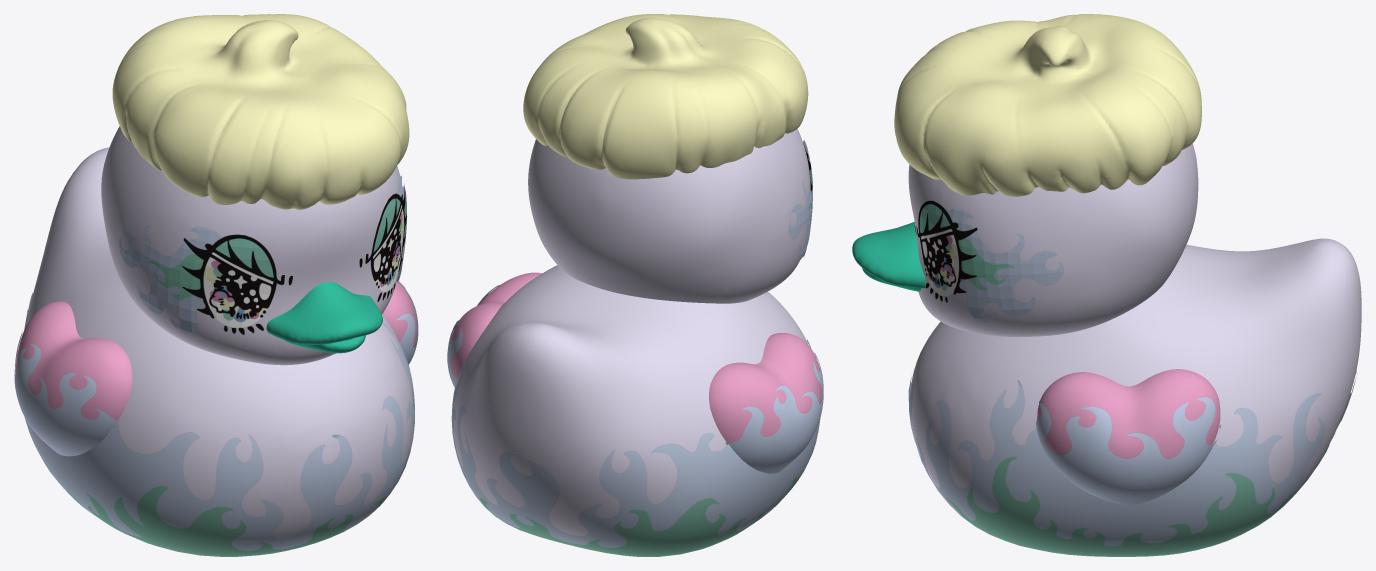
3 views of the same model, side by side, from view 1: azimuth 30°, elevation 25°; view 2: azimuth 150°, elevation 25°; view 3: azimuth 270°, elevation 25° (orthographic). The views are drawn at different scales.
Parts seen in each view (by area): view 1: Torebi 5, H-01 1.001, Fix, 平面.001, 平面.002, Torebi 7, Torebi 3, 平面.004, Torebi 4, 平面.003; view 2: Torebi 5, H-01 1.001, Fix, 平面.001, Torebi 7, 平面.004, Torebi 4, 平面.002, 平面.003; view 3: Torebi 5, H-01 1.001, 平面.001, Fix, Torebi 4, 平面.003, 平面.002, Torebi 3.
Boxes of the visible parts, x1=… form: Torebi 5: x1=26, y1=147, x2=413, y2=538; H-01 1.001: x1=112, y1=14, x2=409, y2=209; Fix: x1=101, y1=126, x2=399, y2=365; 平面.001: x1=24, y1=293, x2=414, y2=556; 平面.002: x1=119, y1=176, x2=407, y2=334; Torebi 7: x1=15, y1=301, x2=132, y2=420; Torebi 3: x1=266, y1=282, x2=382, y2=353; 平面.004: x1=14, y1=332, x2=118, y2=456; Torebi 4: x1=382, y1=281, x2=416, y2=347; 平面.003: x1=395, y1=281, x2=418, y2=364; Torebi 5: x1=453, y1=265, x2=808, y2=535; H-01 1.001: x1=523, y1=14, x2=808, y2=179; Fix: x1=528, y1=129, x2=810, y2=303; 平面.001: x1=451, y1=340, x2=820, y2=556; Torebi 7: x1=709, y1=333, x2=822, y2=442; 平面.004: x1=725, y1=353, x2=823, y2=473; Torebi 4: x1=450, y1=272, x2=541, y2=377; 平面.002: x1=788, y1=140, x2=812, y2=259; 平面.003: x1=447, y1=285, x2=499, y2=387; Torebi 5: x1=909, y1=238, x2=1361, y2=488; H-01 1.001: x1=894, y1=14, x2=1201, y2=196; 平面.001: x1=908, y1=370, x2=1356, y2=556; Fix: x1=908, y1=143, x2=1198, y2=336; Torebi 4: x1=1037, y1=369, x2=1220, y2=458; 平面.003: x1=1036, y1=397, x2=1221, y2=504; 平面.002: x1=914, y1=200, x2=1063, y2=322; Torebi 3: x1=852, y1=221, x2=925, y2=291.
Size of the model in its own units: 54.66 by 69.86 by 66.76.
Materials: 8 (3 with a texture image).
